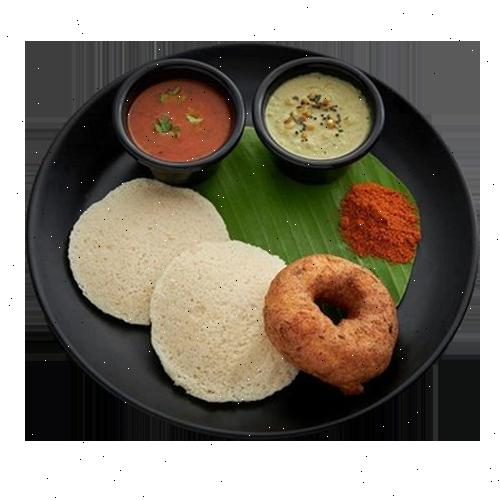coconut chutney: (271, 73, 387, 163)
idli: (78, 184, 285, 391)
medu vada: (269, 244, 398, 389)
sambhar: (122, 59, 240, 162)
